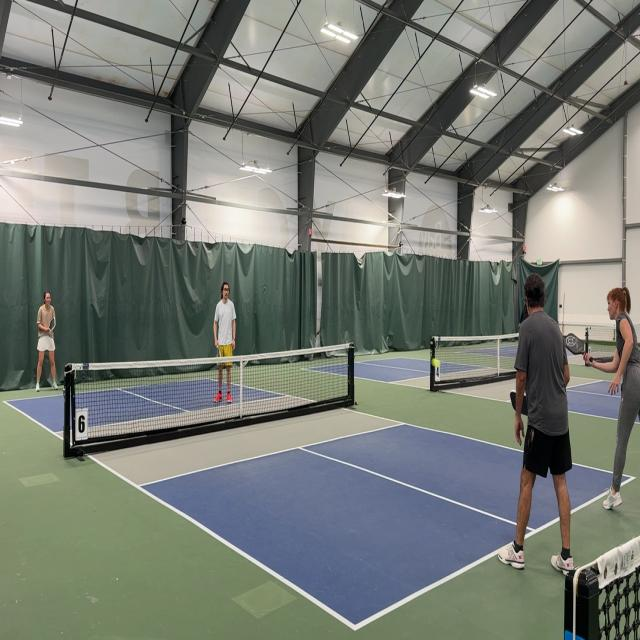ball: (431, 358, 440, 368)
